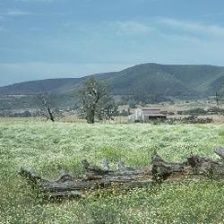neutral: (1, 3, 222, 224)
